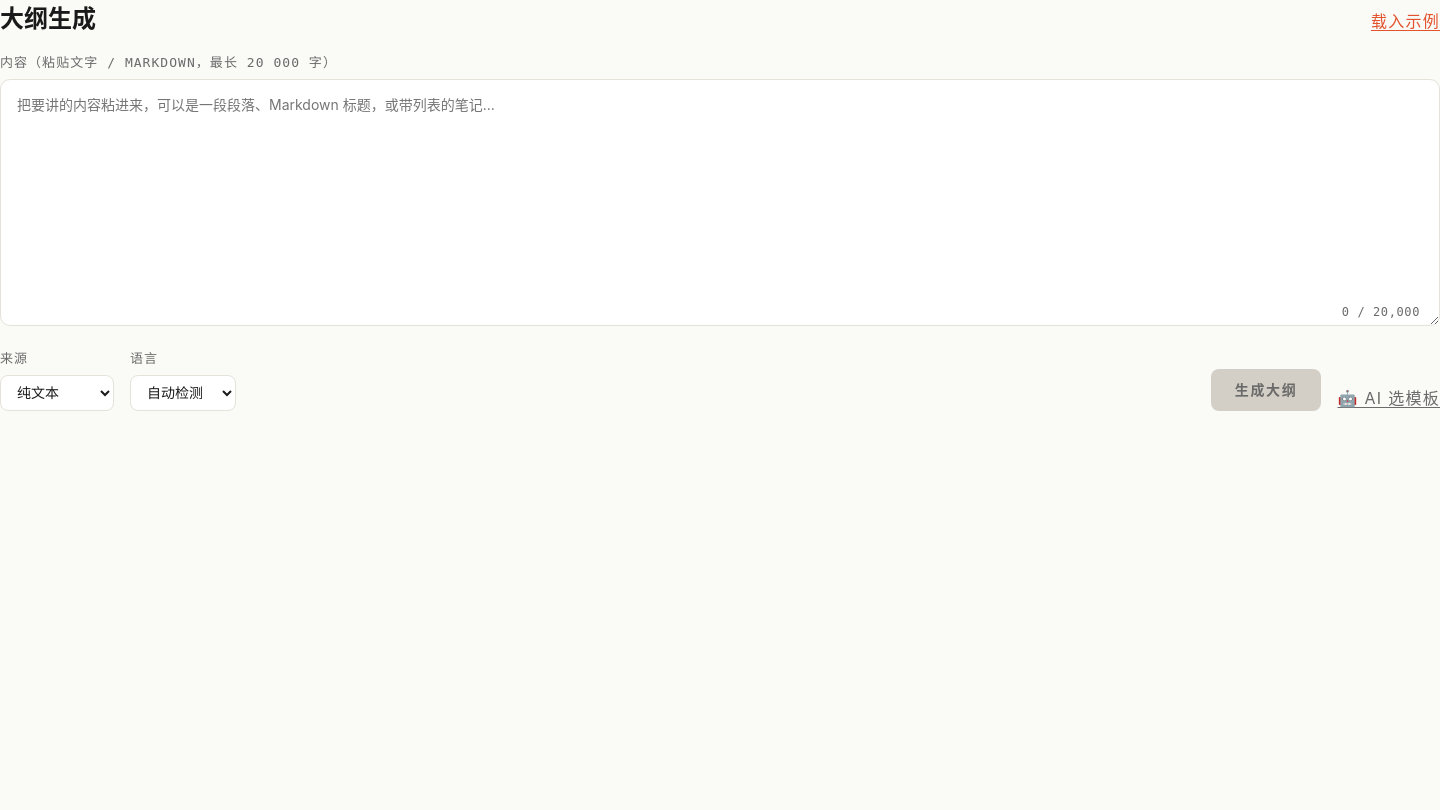
Scenario: OutlineForm › shows fallback badge when used_fallback=true
The image size is (1440, 810).
Type "x" into the text box labelled "内容（粘贴文字 / Markdown，最长 20 000 字） 0 / 20,000".
click(720, 203); type("x")  # box left=0, top=79, right=1439, bottom=326
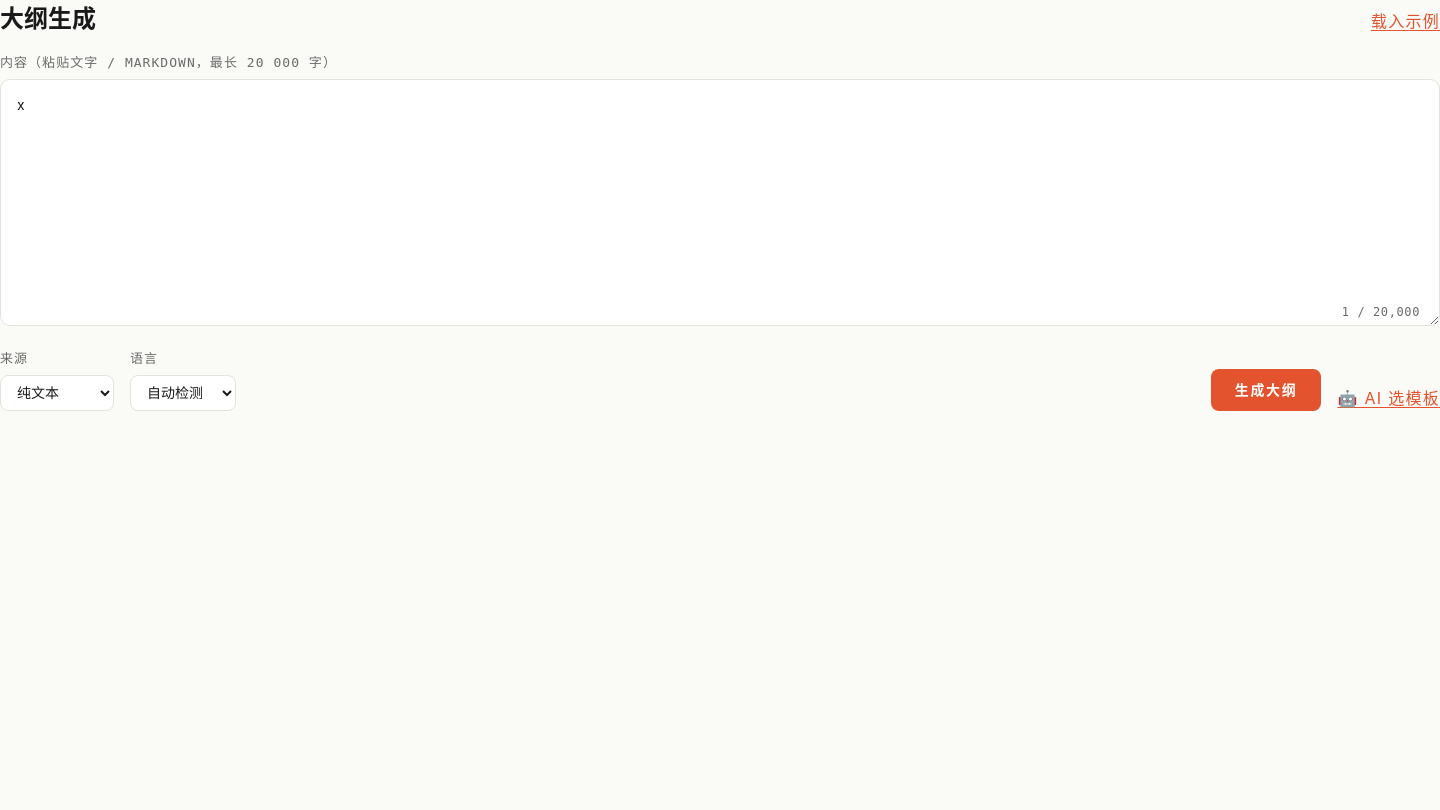
Click the button "生成大纲".
click(1266, 390)  # box left=1211, top=370, right=1321, bottom=411
Wait 1200 ms
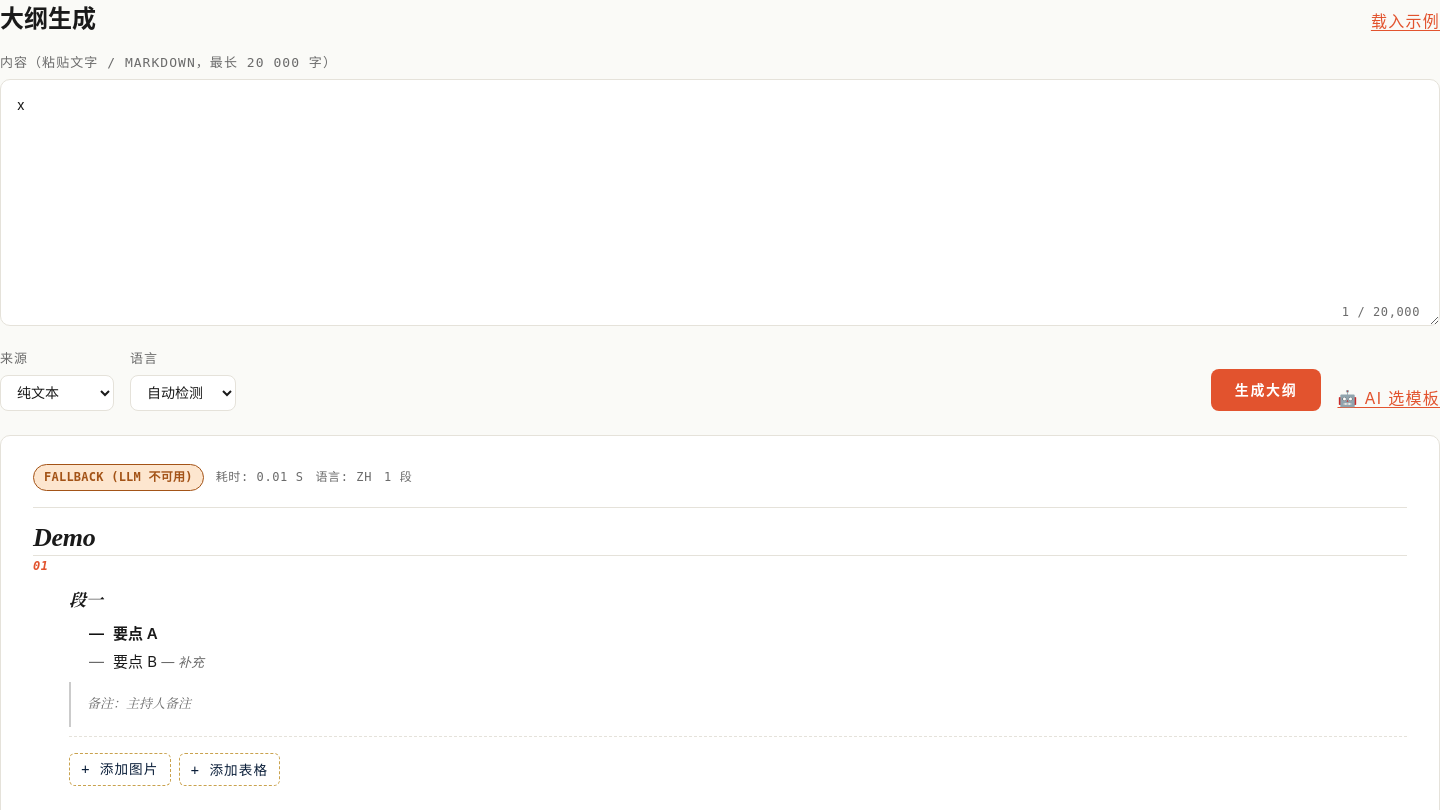
Now the text with class "badge" shows "Fallback", box left=44, top=470, right=193, bottom=484
